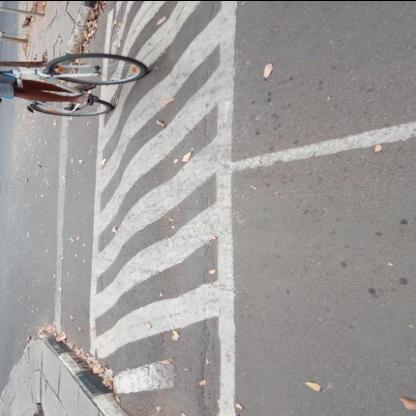speed-bumps: (74, 1, 247, 415)
